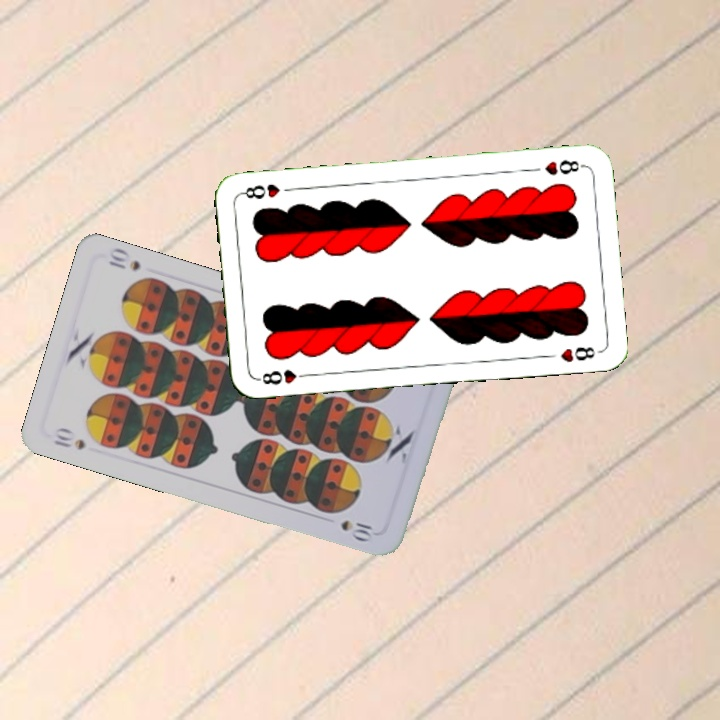H8: (254, 366, 313, 388), (540, 155, 586, 178)
S10: (50, 424, 88, 452)
